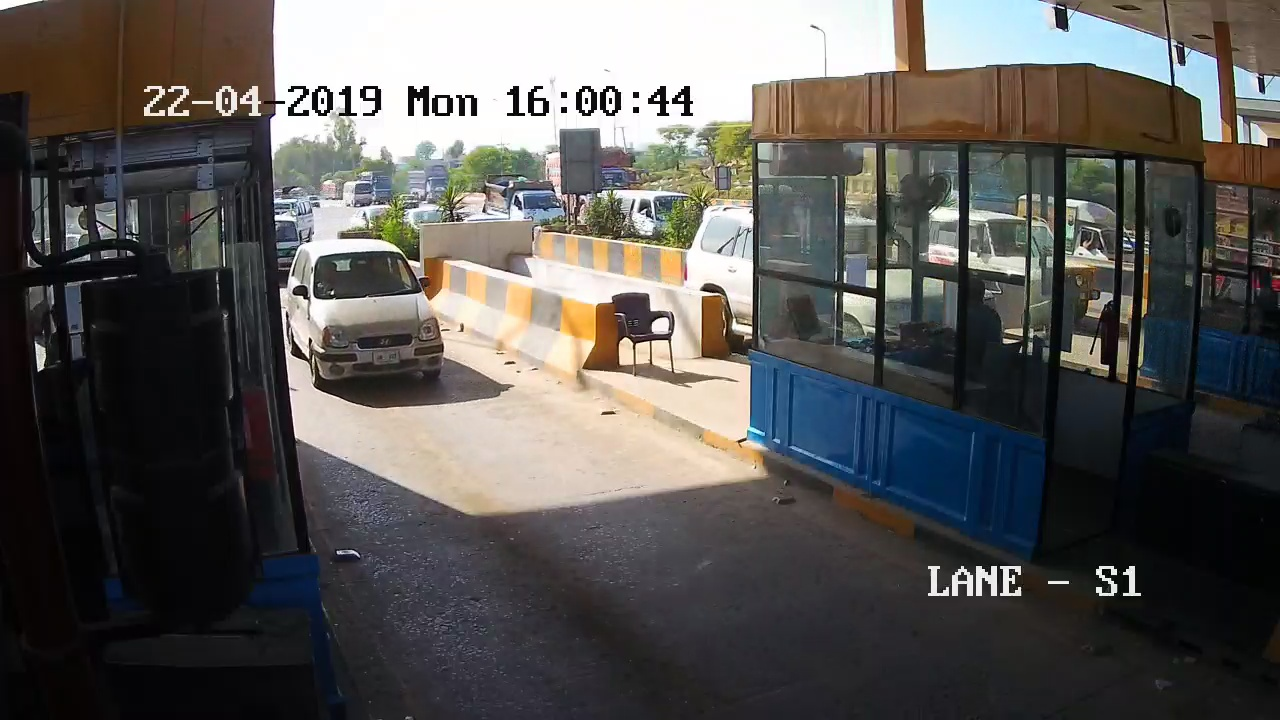car: (282, 235, 462, 400)
